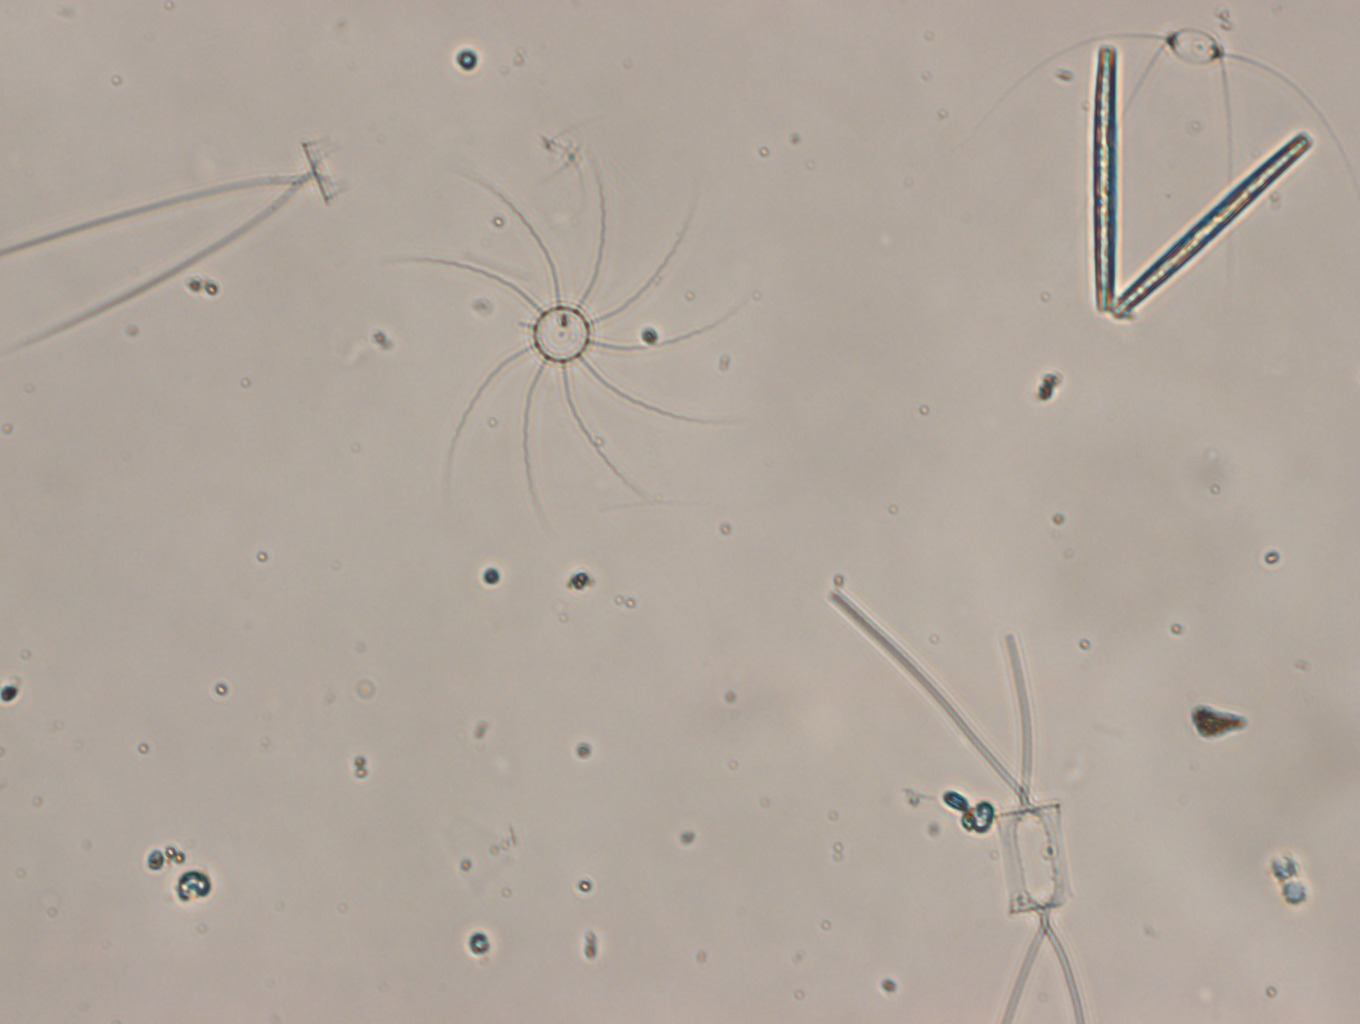bacteriastrum: (366, 143, 761, 531)
chaetoceros: (822, 589, 1090, 1024), (968, 22, 1360, 297), (1, 137, 346, 355)
thalassionema nitzschioides: (1091, 44, 1314, 321)
